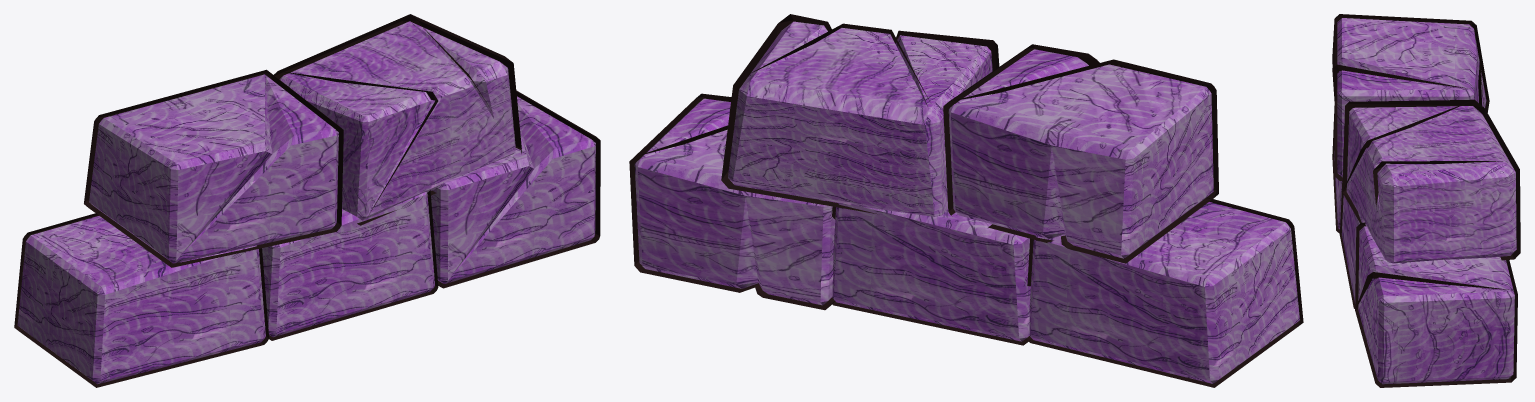
Rendered from mesh_ruins_04.fbx.
3 views of the same model, side by side, from view 1: azimuth 30°, elevation 25°; view 2: azimuth 150°, elevation 25°; view 3: azimuth 270°, elevation 25° (orthographic). The views are drawn at different scales.
Parts seen in each view (by area): view 1: mesh_ruins_04; view 2: mesh_ruins_04; view 3: mesh_ruins_04.
Part boxes in pixels (<box>): mesh_ruins_04: <box>14,14,600,387</box>; mesh_ruins_04: <box>629,14,1303,387</box>; mesh_ruins_04: <box>1332,14,1520,387</box>.
Size of the model in its own units: 332 by 123 by 115.
Materials: 2 (1 with a texture image).
